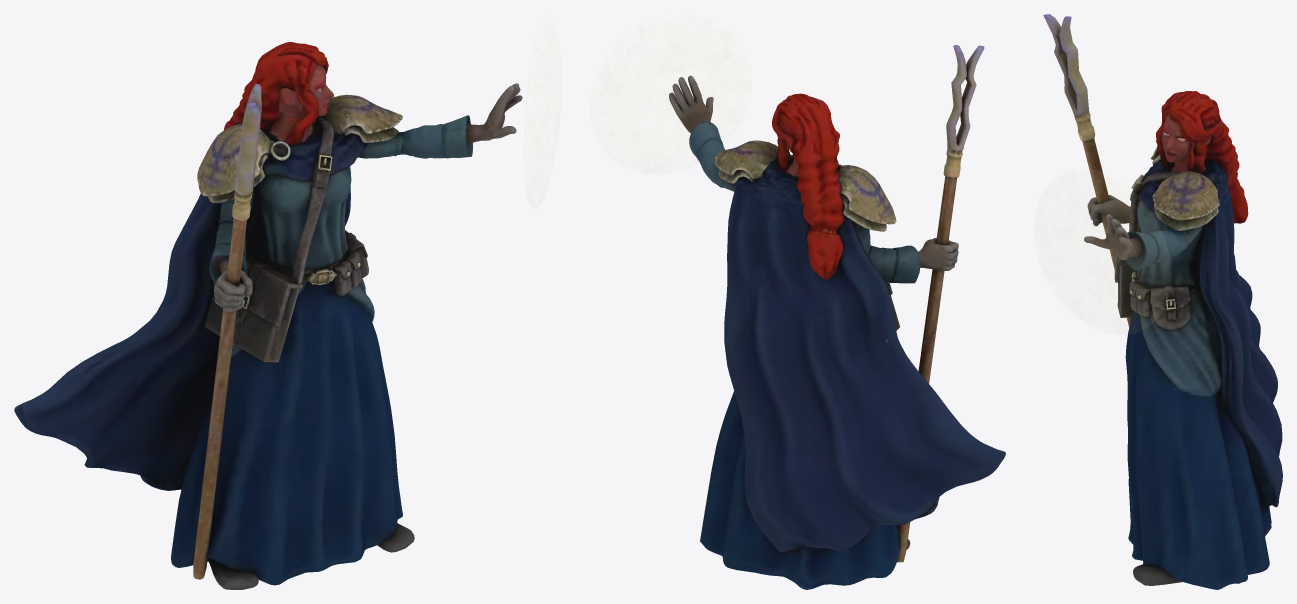
Rendered from MZ4250 - Human Female Abjuration Wizard with Shield spell_4.glb.
The picture shows the model from 3 angles, left to right: view 1: azimuth 30°, elevation 25°; view 2: azimuth 150°, elevation 25°; view 3: azimuth 270°, elevation 25°; orthographic projection. The views are drawn at different scales.
Visible parts, largest first — view 1: HFA_4; view 2: HFA_4; view 3: HFA_4.
Boxes of the visible parts, x1,y1,x2,y2 form: HFA_4: (14,42,522,589); HFA_4: (669,45,1005,589); HFA_4: (1043,14,1282,589).
Size of the model in its own units: 2103 by 2220 by 998.
Materials: 2 (2 with a texture image).
